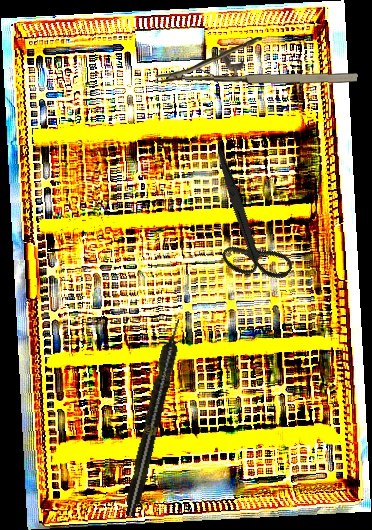Handpiece: (120, 316, 188, 519)
Iris Scissors: (165, 147, 325, 299)
Needle Holder: (155, 33, 359, 89)
